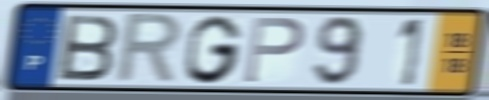1: (394, 16, 426, 88)
9: (312, 14, 366, 88)
B: (56, 13, 121, 83)
G: (183, 13, 246, 86)
P: (241, 14, 307, 85)
R: (111, 11, 186, 87)
